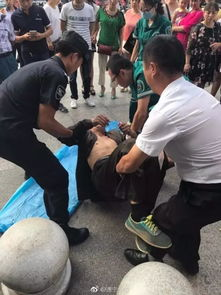10+: (2, 1, 221, 269)
down: (70, 110, 176, 262)
